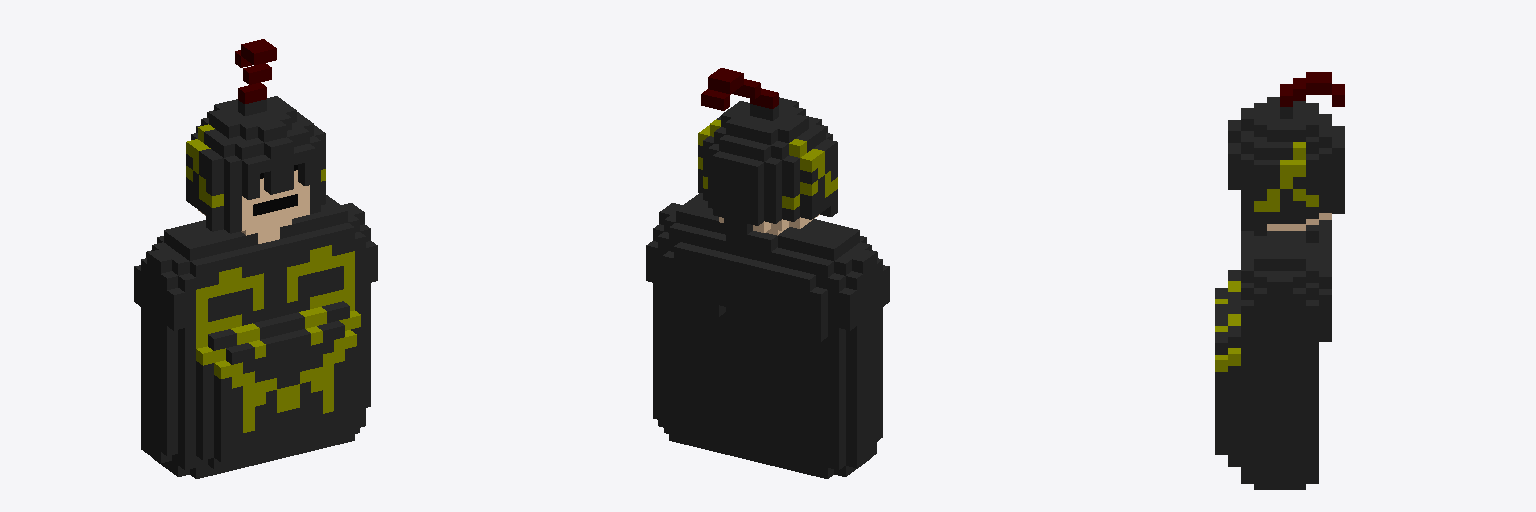
3 renders of one model, left to right at view 1: azimuth 30°, elevation 25°; view 2: azimuth 150°, elevation 25°; view 3: azimuth 270°, elevation 25°, orthographic.
Parts seen in each view (by area): view 1: object 1; view 2: object 1; view 3: object 1.
Part boxes in pixels (bbox=[...]): object 1: bbox=[134, 39, 377, 478]; object 1: bbox=[646, 68, 889, 478]; object 1: bbox=[1215, 72, 1344, 489].
Bounding box in the file's own units: 1.8 × 3.2 × 1.
Materials: 1 (1 with a texture image).